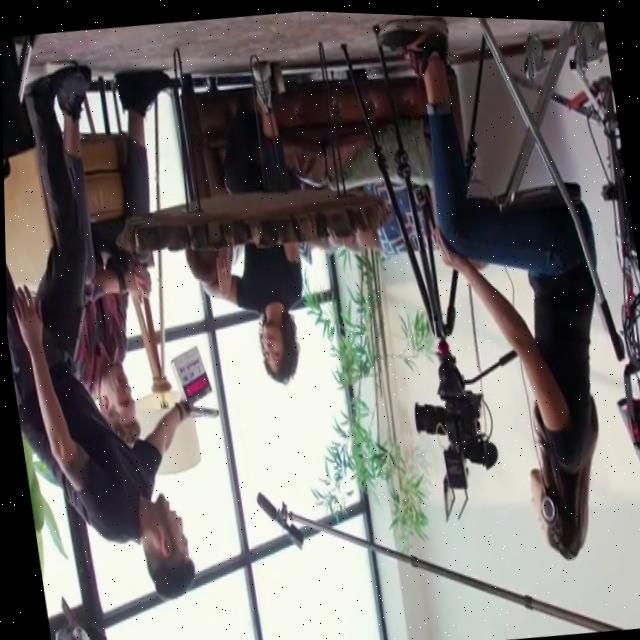Clapperboard: (170, 343, 219, 415)
